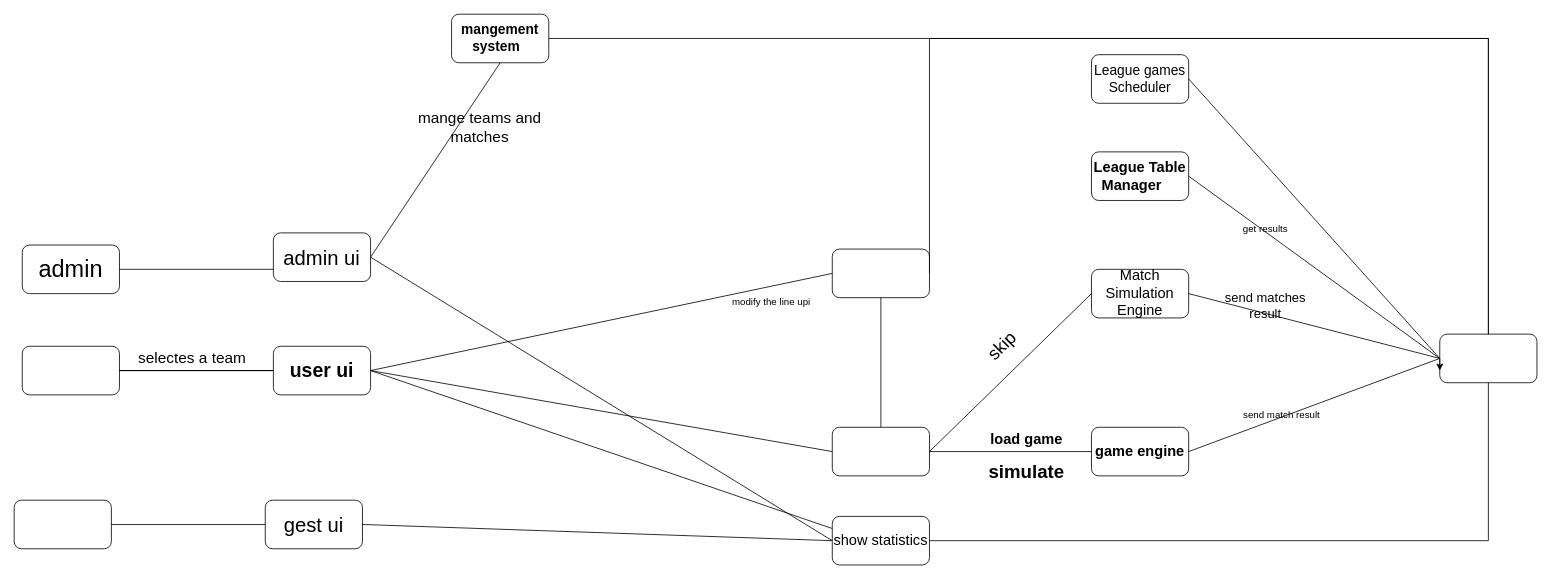
The diagram is 1551 pixels wide and 579 high, and some of its shapes have lost their labels. The shapes that lost their labels are listed below. From the top down, each one's centre as x and y in pixels, then its label:
At pixel 880 273: "line up builder".
At pixel 70 370: "user".
At pixel 1488 358: "DB".
At pixel 880 451: "game ui".
At pixel 62 524: "gest".
